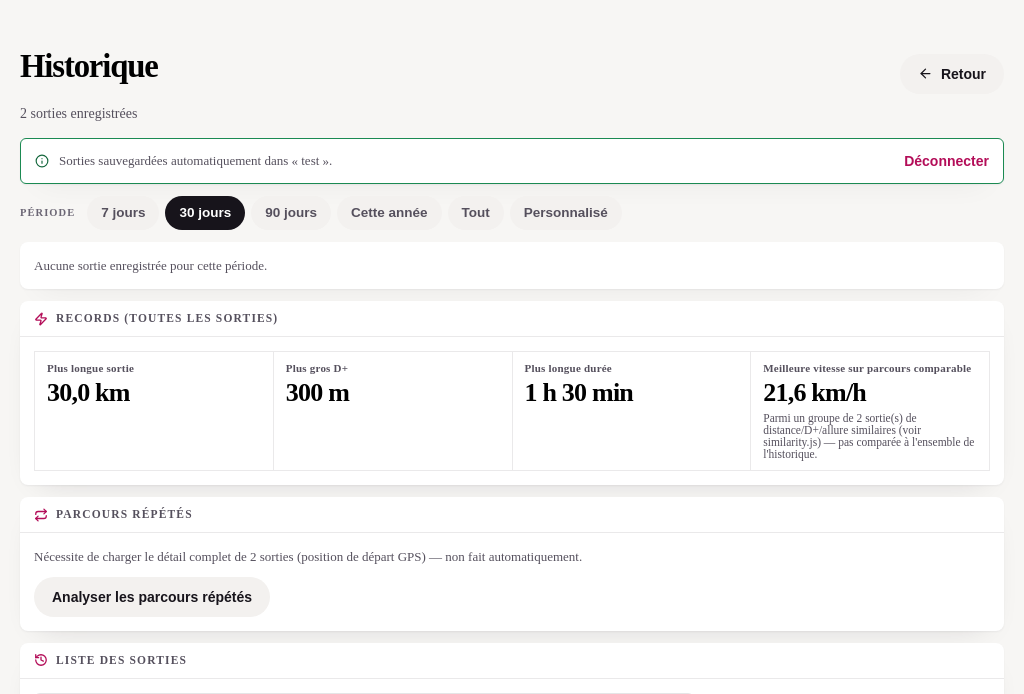
Test: HistoryDashboard — tendances › indique 'Pas assez de sorties' avec moins de 5 sorties
Click the button "Tout". click: {"x": 476, "y": 213}
box: left=448, top=196, right=504, bottom=230
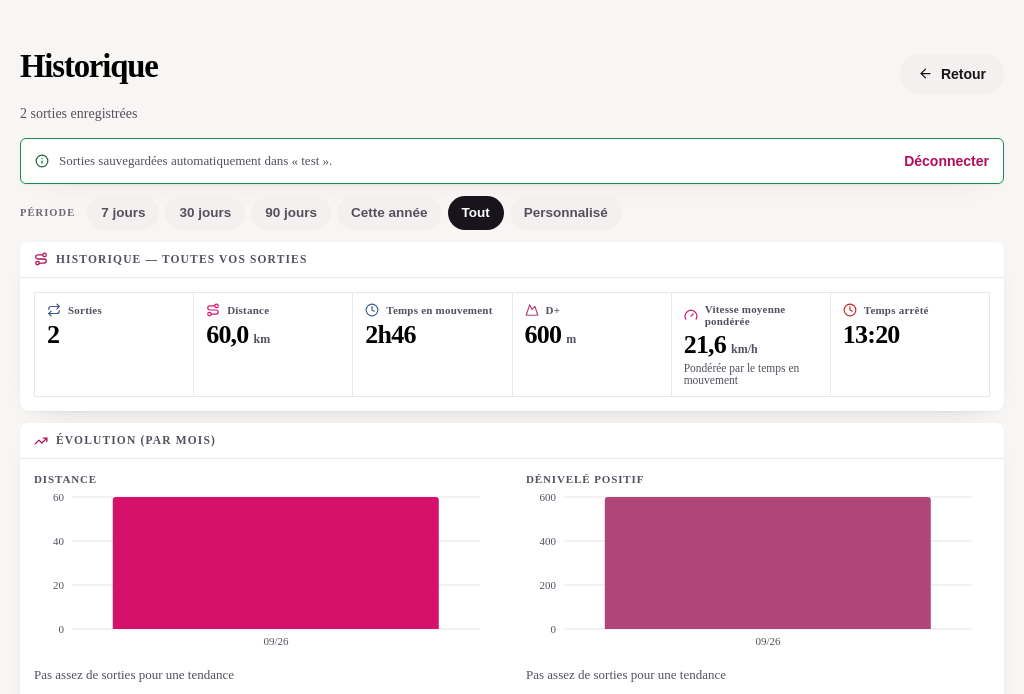
Expected: the 1st text "Pas assez de sorties pour une tendance" is shown, left=34, top=667, right=234, bottom=682
